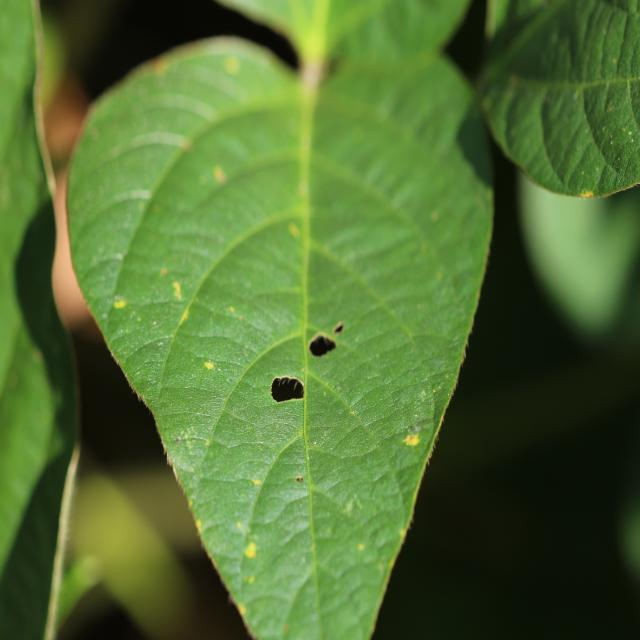Soybean: (32, 0, 640, 640)
downey_mildew: (100, 102, 302, 436), (284, 360, 430, 630), (298, 237, 421, 427), (317, 59, 466, 211), (204, 338, 319, 520), (168, 156, 310, 294), (78, 136, 199, 288), (313, 176, 440, 320), (306, 165, 429, 307), (11, 197, 78, 441), (487, 1, 634, 93), (131, 43, 282, 125), (169, 105, 303, 197), (317, 1, 483, 75), (87, 92, 233, 175), (163, 330, 270, 438), (305, 403, 399, 522), (1, 345, 61, 529), (302, 525, 394, 636), (121, 319, 204, 419), (213, 3, 329, 69), (541, 78, 607, 190), (254, 492, 332, 581), (341, 45, 465, 100), (497, 81, 557, 185), (301, 361, 374, 444), (212, 289, 303, 355), (592, 71, 640, 184), (244, 451, 310, 531), (115, 277, 195, 342), (77, 248, 143, 324), (280, 565, 332, 639), (213, 398, 277, 447), (595, 5, 633, 87), (112, 129, 197, 161), (381, 3, 426, 50), (107, 188, 155, 206)
